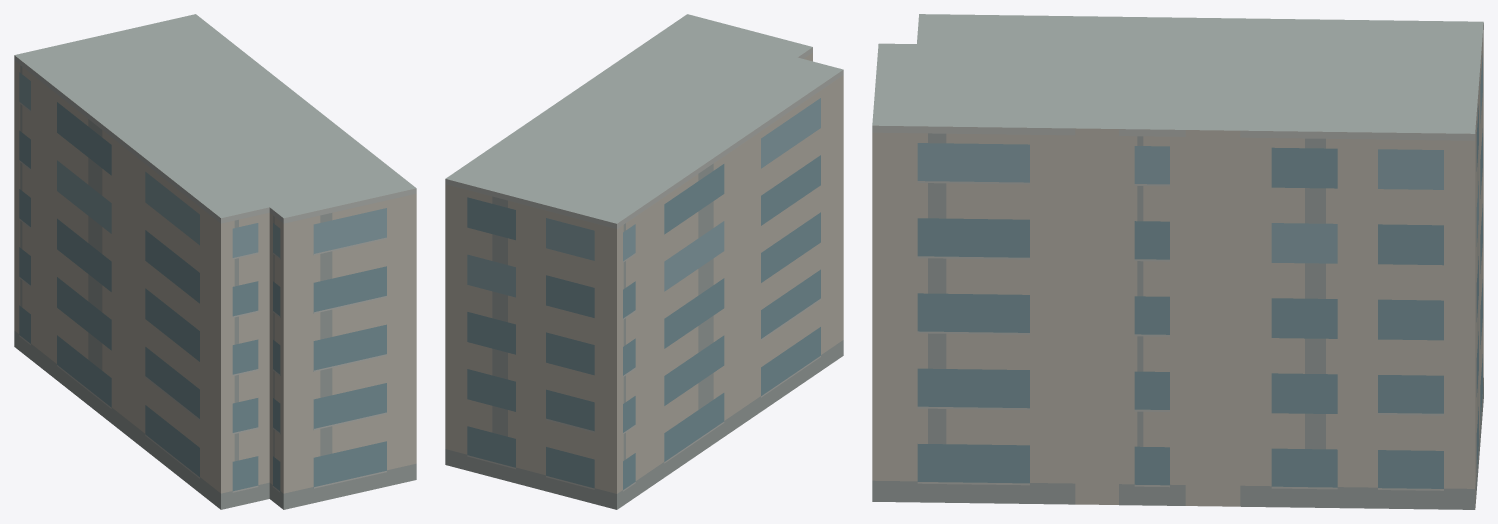
File: survey-upis-32565655.glb
3 renders of one model, left to right at view 1: azimuth 30°, elevation 25°; view 2: azimuth 150°, elevation 25°; view 3: azimuth 270°, elevation 25°, orthographic. The views are drawn at different scales.
Visible parts, largest first — view 1: survey-upis-32565655.tmp; view 2: survey-upis-32565655.tmp; view 3: survey-upis-32565655.tmp.
Part boxes in pixels (<box>): survey-upis-32565655.tmp: <box>14,14,416,509</box>; survey-upis-32565655.tmp: <box>445,14,843,509</box>; survey-upis-32565655.tmp: <box>872,14,1483,509</box>.
Size of the model in its own units: 9 by 13.15 by 19.39.
